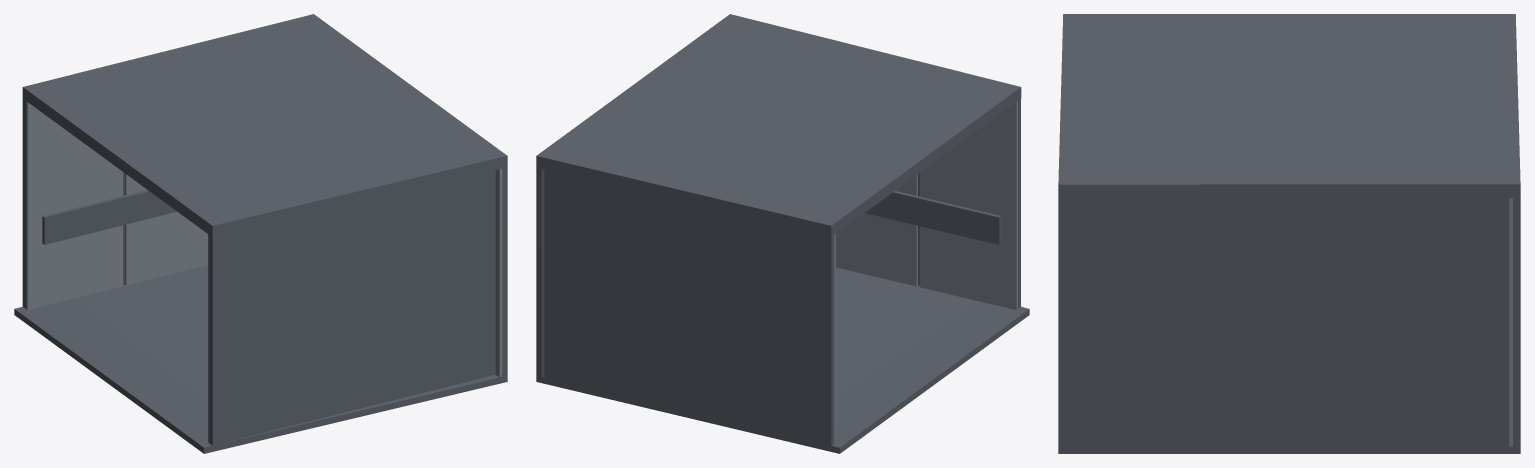
The model's file is Elevator.glb.
The picture shows the model from 3 angles, left to right: view 1: azimuth 30°, elevation 25°; view 2: azimuth 150°, elevation 25°; view 3: azimuth 270°, elevation 25°; orthographic projection. The views are drawn at different scales.
Visible parts, largest first — view 1: Elevator; view 2: Elevator; view 3: Elevator.
Boxes of the visible parts, <box> form: Elevator: <box>14,14,507,453</box>; Elevator: <box>536,14,1029,453</box>; Elevator: <box>1058,14,1520,453</box>.
Size of what is drawn, in the model's own units: 4.12 by 2.95 by 4.58.
1 material, 1 textured.
